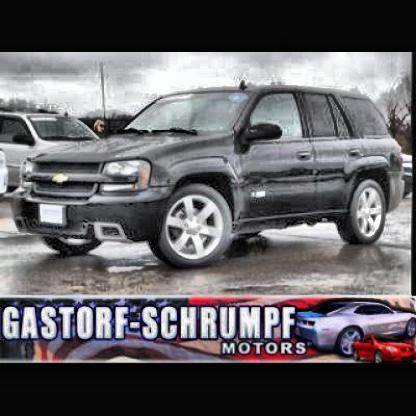Chevrolet TrailBlazer SS 2009: (12, 81, 408, 271)
